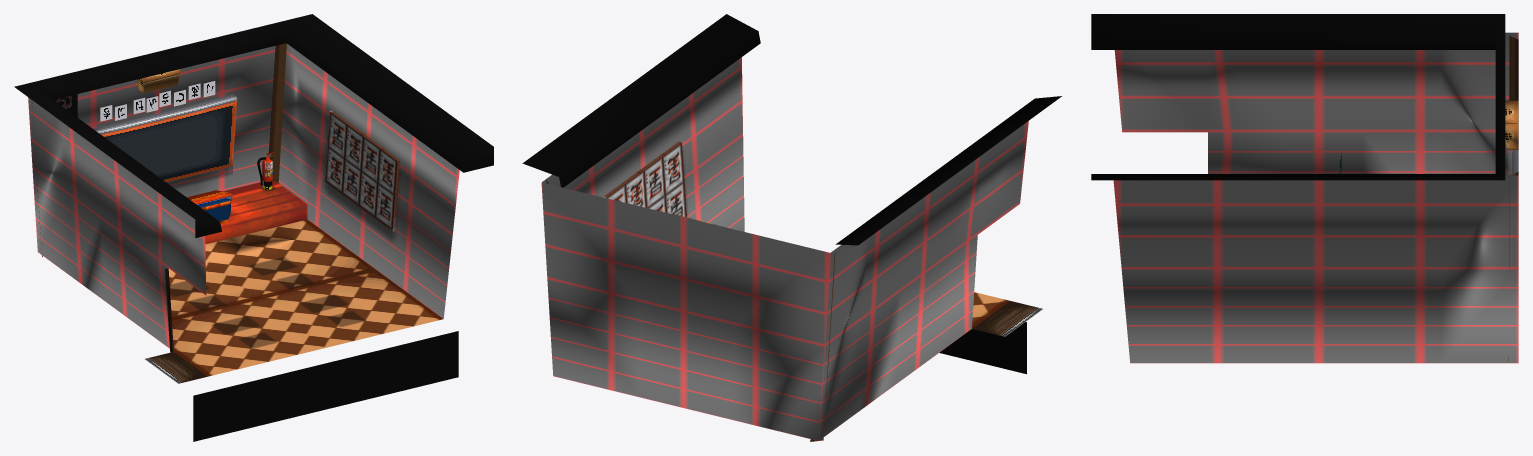
The picture shows the model from 3 angles, left to right: view 1: azimuth 30°, elevation 25°; view 2: azimuth 150°, elevation 25°; view 3: azimuth 270°, elevation 25°; orthographic projection. The views are drawn at different scales.
Parts seen in each view (by area): view 1: sc_classroom; view 2: sc_classroom; view 3: sc_classroom.
Boxes of the visible parts, bbox=[...] form: sc_classroom: bbox=[14, 14, 493, 441]; sc_classroom: bbox=[522, 14, 1061, 441]; sc_classroom: bbox=[1091, 14, 1518, 363].
Bounding box in the file's own units: 5.06 × 3.86 × 5.5.
20 materials, 20 textured.
